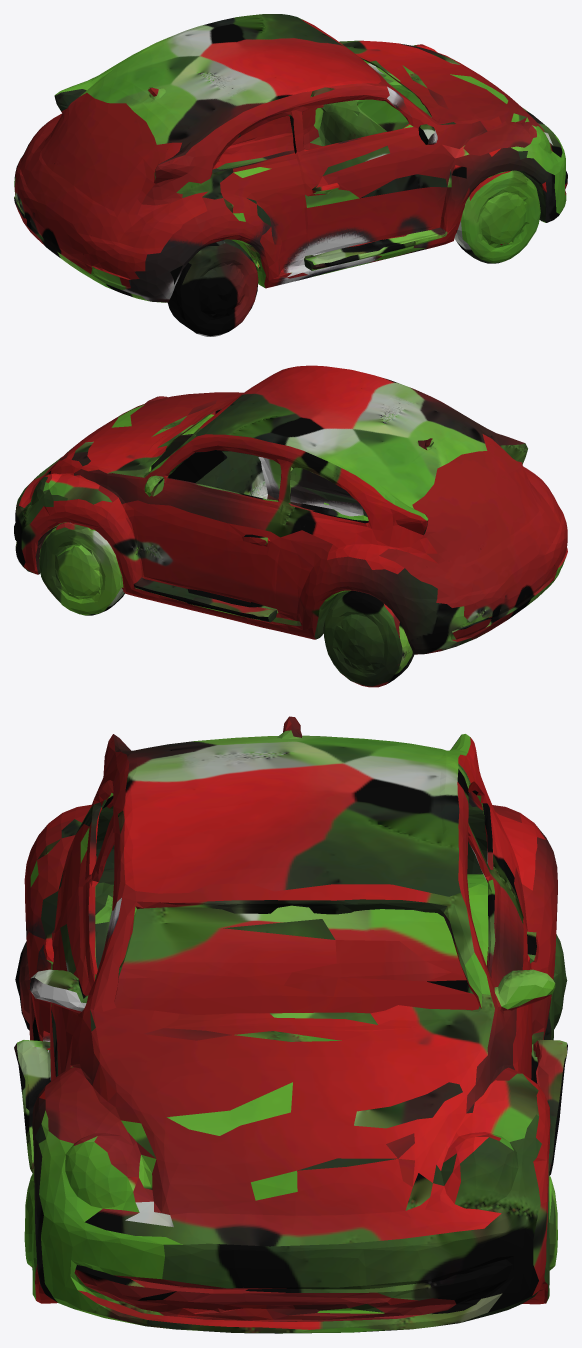
Rendered from sample.obj.
3 renders of one model, top to bottom at view 1: azimuth 30°, elevation 25°; view 2: azimuth 150°, elevation 25°; view 3: azimuth 270°, elevation 25°, orthographic. The views are drawn at different scales.
Bounding box in the file's own units: 0.547 × 0.225 × 0.3105.
